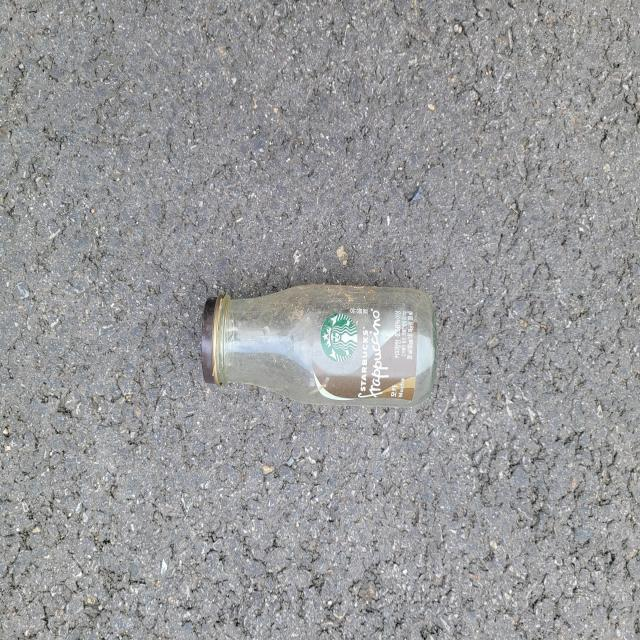glass: (202, 285, 436, 406)
